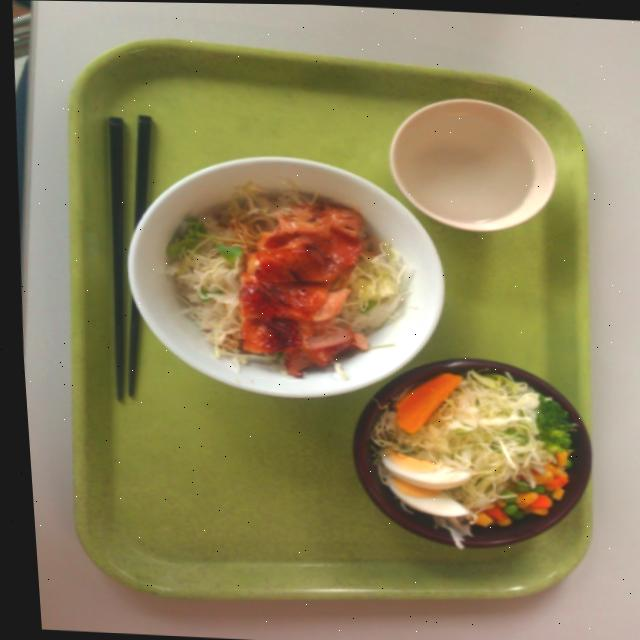蔬菜料理: (334, 346, 606, 556)
